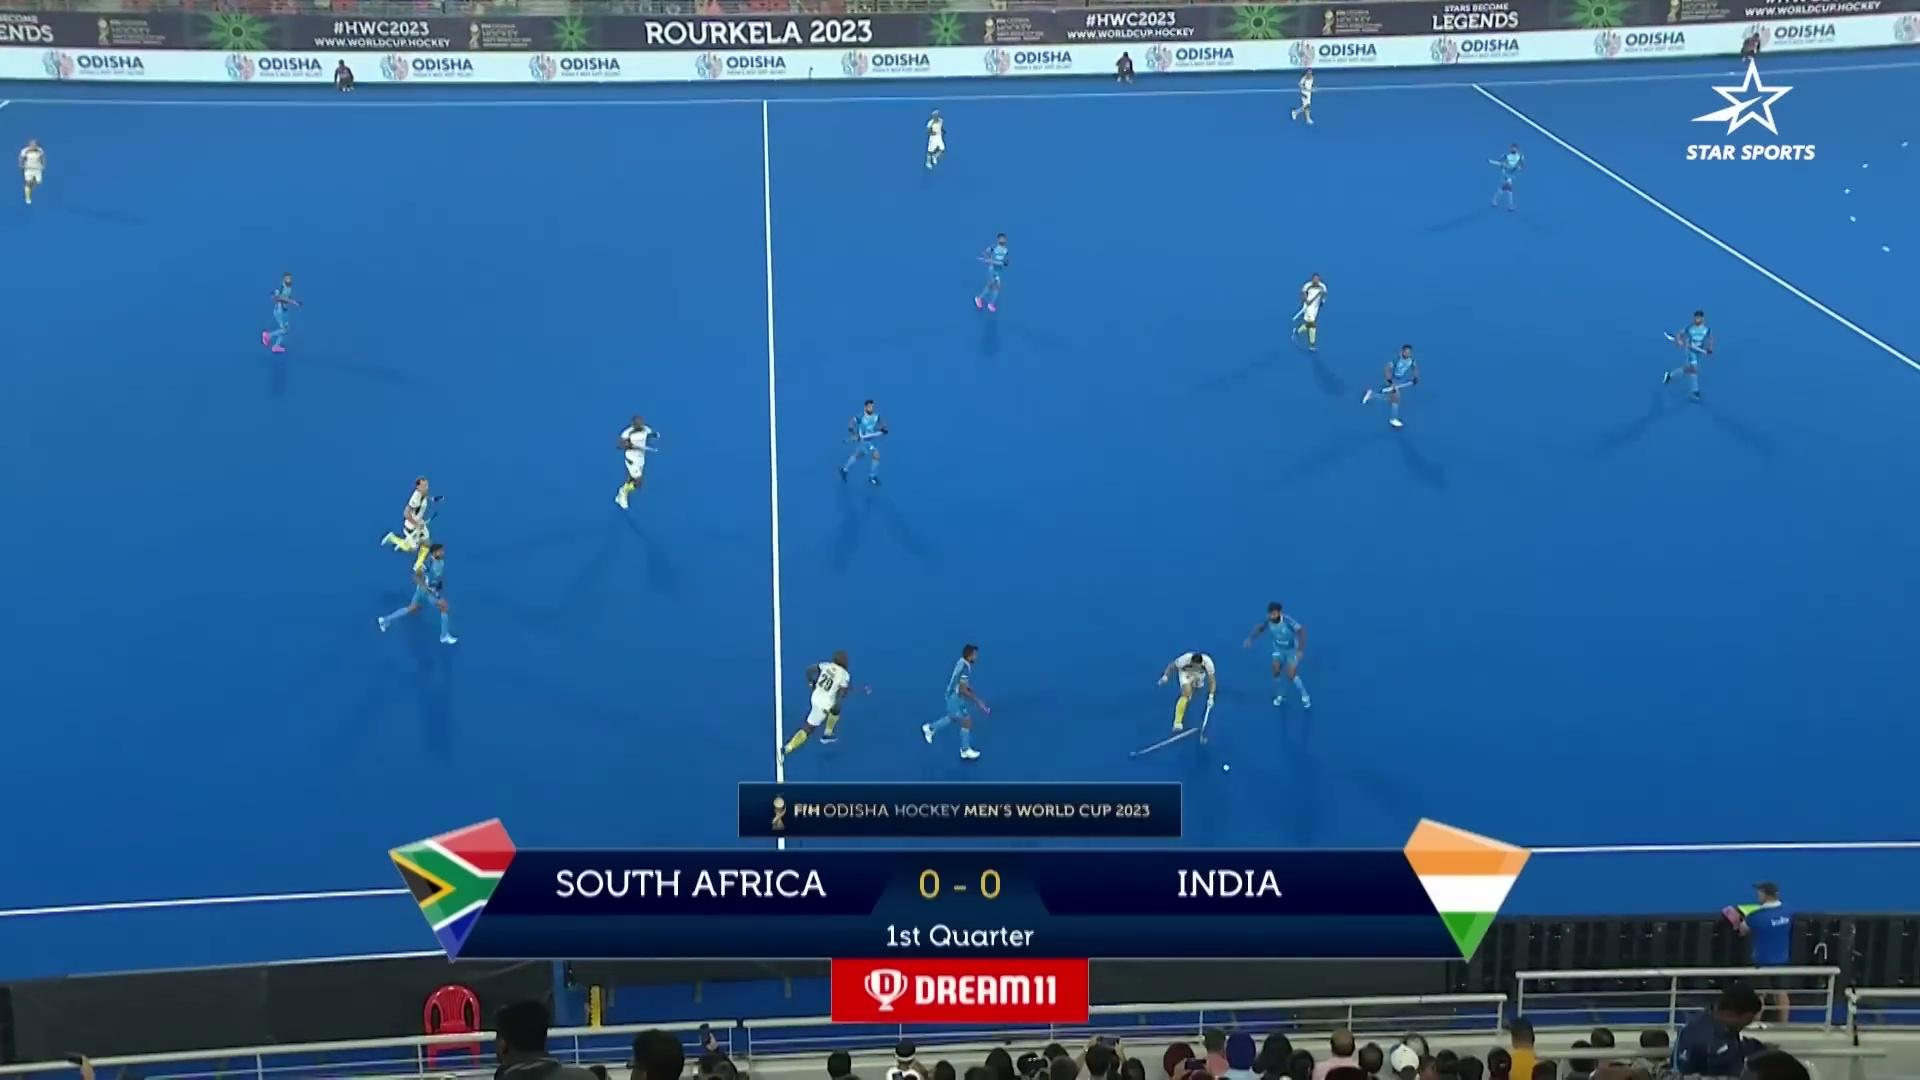ball: (1216, 737, 1249, 785)
